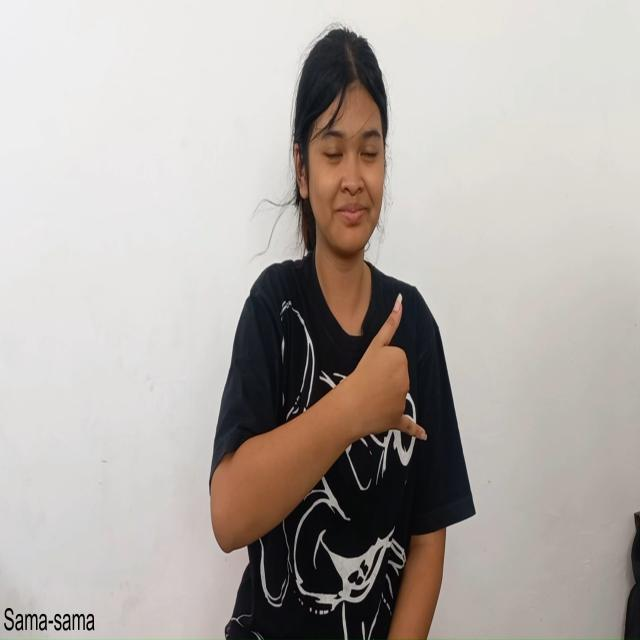Sama-sama -BISINDO-: (327, 286, 431, 456)
